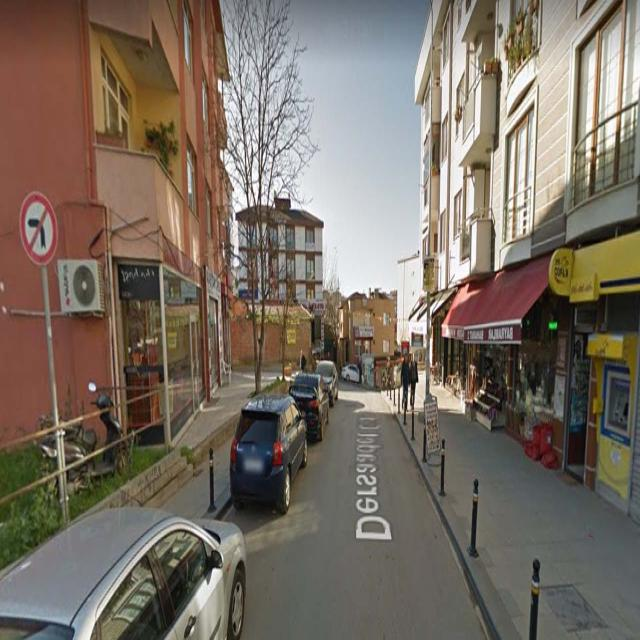soladonulmez: (20, 191, 58, 268)
